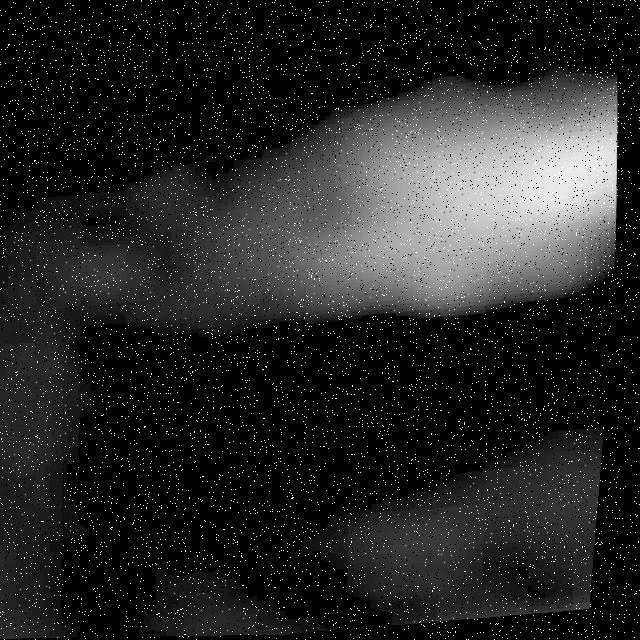person: (248, 51, 637, 349)
